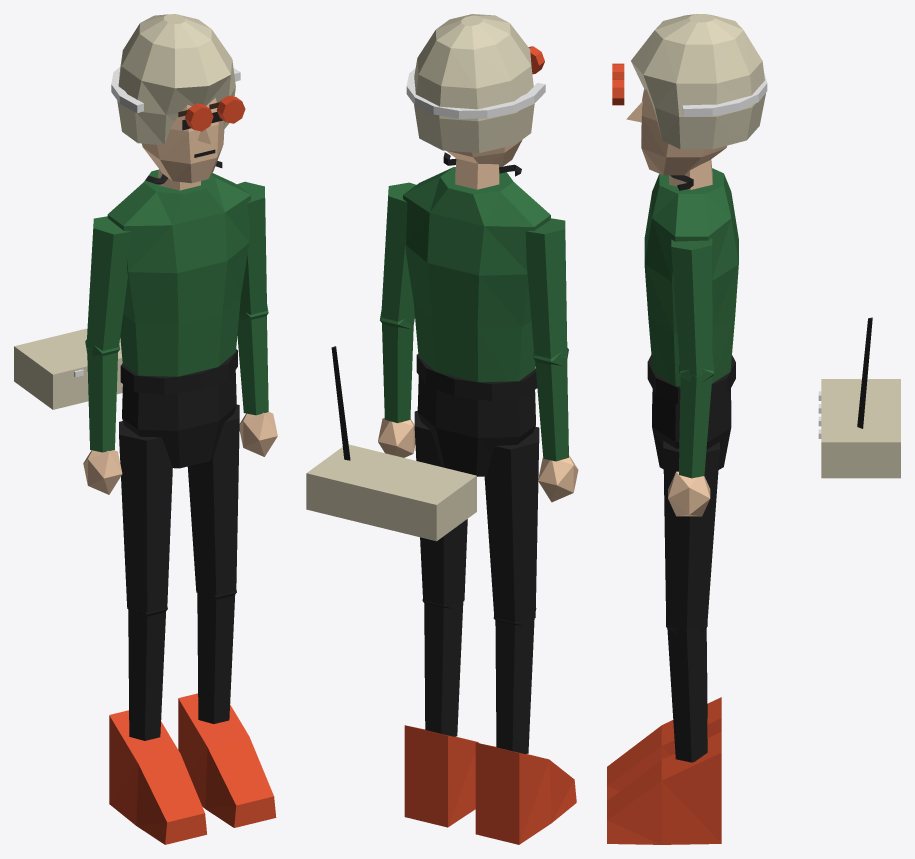
Rendered from dial-up.glb.
3 renders of one model, left to right at view 1: azimuth 30°, elevation 25°; view 2: azimuth 150°, elevation 25°; view 3: azimuth 270°, elevation 25°, orthographic. The views are drawn at different scales.
Parts seen in each view (by area): view 1: chest_mesh, head_mesh, shin_r_mesh, shin_l_mesh, hips_mesh, thigh_r_mesh, thigh_l_mesh, prop_mesh, upper_arm_r_mesh, forearm_r_mesh, forearm_l_mesh, upper_arm_l_mesh (+1 smaller); view 2: chest_mesh, head_mesh, shin_r_mesh, prop_mesh, shin_l_mesh, hips_mesh, thigh_r_mesh, upper_arm_r_mesh, forearm_r_mesh, thigh_l_mesh, forearm_l_mesh, upper_arm_l_mesh; view 3: head_mesh, shin_l_mesh, chest_mesh, prop_mesh, thigh_l_mesh, upper_arm_l_mesh, forearm_l_mesh, hips_mesh, shin_r_mesh.
Part boxes in pixels (x1=…): chest_mesh: x1=107, y1=169, x2=250, y2=376; head_mesh: x1=111, y1=14, x2=245, y2=190; shin_r_mesh: x1=109, y1=609, x2=206, y2=844; shin_l_mesh: x1=178, y1=593, x2=276, y2=827; hips_mesh: x1=120, y1=349, x2=237, y2=468; thigh_r_mesh: x1=119, y1=421, x2=172, y2=616; thigh_l_mesh: x1=187, y1=404, x2=239, y2=599; prop_mesh: x1=14, y1=328, x2=122, y2=409; upper_arm_r_mesh: x1=85, y1=216, x2=131, y2=356; forearm_r_mesh: x1=83, y1=348, x2=122, y2=494; forearm_l_mesh: x1=237, y1=315, x2=277, y2=456; upper_arm_l_mesh: x1=237, y1=181, x2=268, y2=320; chest_mesh: x1=403, y1=167, x2=550, y2=382; head_mesh: x1=406, y1=14, x2=545, y2=189; shin_r_mesh: x1=475, y1=618, x2=576, y2=844; prop_mesh: x1=306, y1=346, x2=476, y2=541; shin_l_mesh: x1=404, y1=601, x2=478, y2=827; hips_mesh: x1=416, y1=354, x2=537, y2=476; thigh_r_mesh: x1=484, y1=426, x2=539, y2=625; upper_arm_r_mesh: x1=525, y1=218, x2=568, y2=365; forearm_r_mesh: x1=535, y1=356, x2=578, y2=502; thigh_l_mesh: x1=414, y1=411, x2=467, y2=608; forearm_l_mesh: x1=378, y1=321, x2=415, y2=457; upper_arm_l_mesh: x1=380, y1=182, x2=415, y2=329; head_mesh: x1=612, y1=14, x2=767, y2=189; shin_l_mesh: x1=607, y1=628, x2=721, y2=844; chest_mesh: x1=644, y1=168, x2=738, y2=386; prop_mesh: x1=821, y1=317, x2=900, y2=478; thigh_l_mesh: x1=663, y1=441, x2=719, y2=633; upper_arm_l_mesh: x1=671, y1=238, x2=713, y2=382; forearm_l_mesh: x1=668, y1=375, x2=712, y2=516; hips_mesh: x1=647, y1=355, x2=735, y2=469; shin_r_mesh: x1=607, y1=628, x2=721, y2=800.
Size of the model in its own units: 0.4405 by 1.77 by 0.59.
